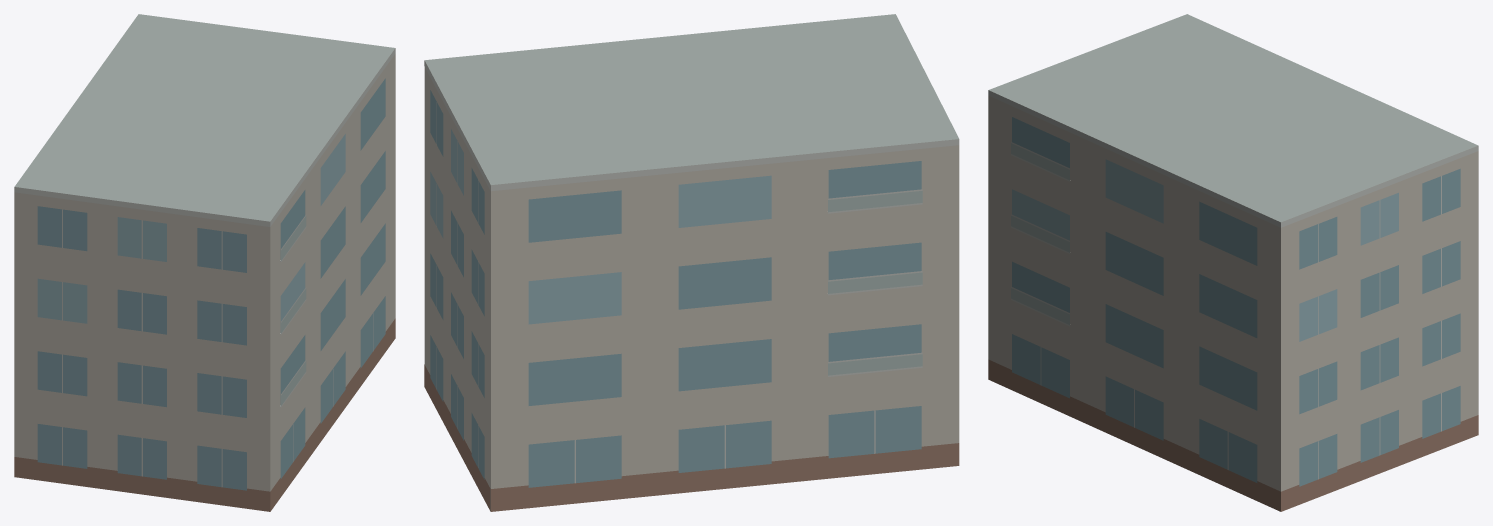
File: survey-upis-32653092.glb
The picture shows the model from 3 angles, left to right: view 1: azimuth 30°, elevation 25°; view 2: azimuth 150°, elevation 25°; view 3: azimuth 270°, elevation 25°; orthographic projection. The views are drawn at different scales.
Visible parts, largest first — view 1: survey-upis-32653092.tmp; view 2: survey-upis-32653092.tmp; view 3: survey-upis-32653092.tmp.
Boxes of the visible parts, box(x1,y1,x2,y2) form: survey-upis-32653092.tmp: box(14, 14, 395, 511); survey-upis-32653092.tmp: box(424, 14, 959, 511); survey-upis-32653092.tmp: box(988, 14, 1478, 511).
Bounding box in the file's own units: 20.16 × 13.05 × 20.03.
